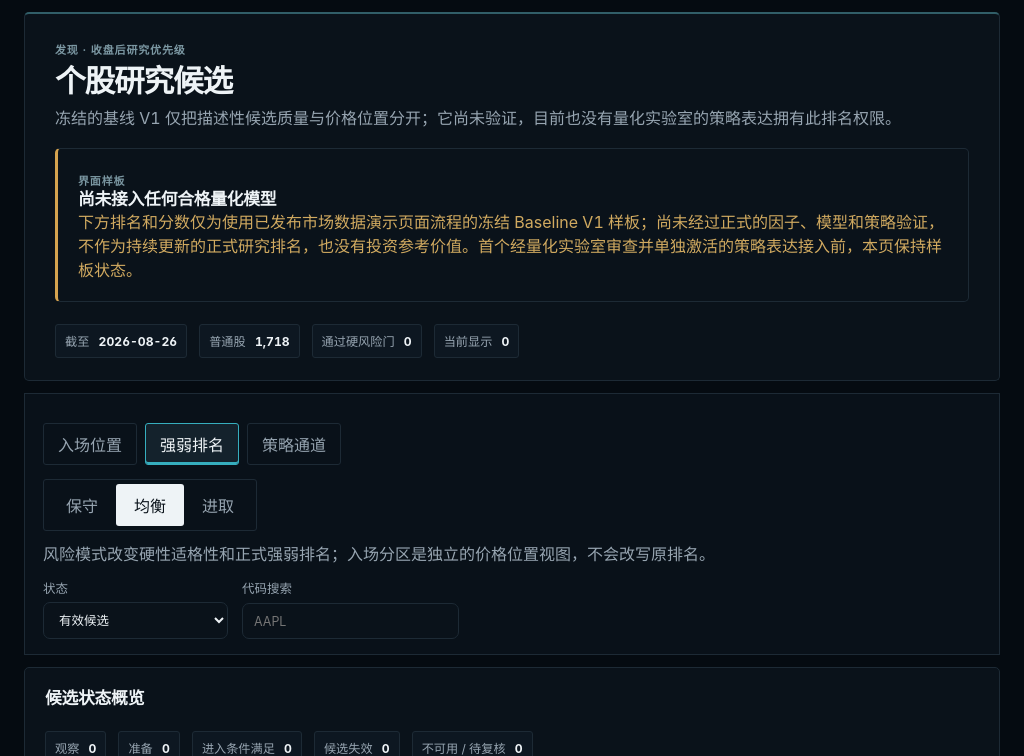
strategy-channel workspace › renders the decision desk in Chinese without changing its evidence scope
The image size is (1024, 756).
Check: the heading "尚未接入任何合格量化模型" is shown, box [78,189,276,209]
Check: the text "没有投资参考价值" is shown, box [78,212,944,280]
Click the button "策略通道" at (294, 444), box [247,423,341,465]
(page scrolled)
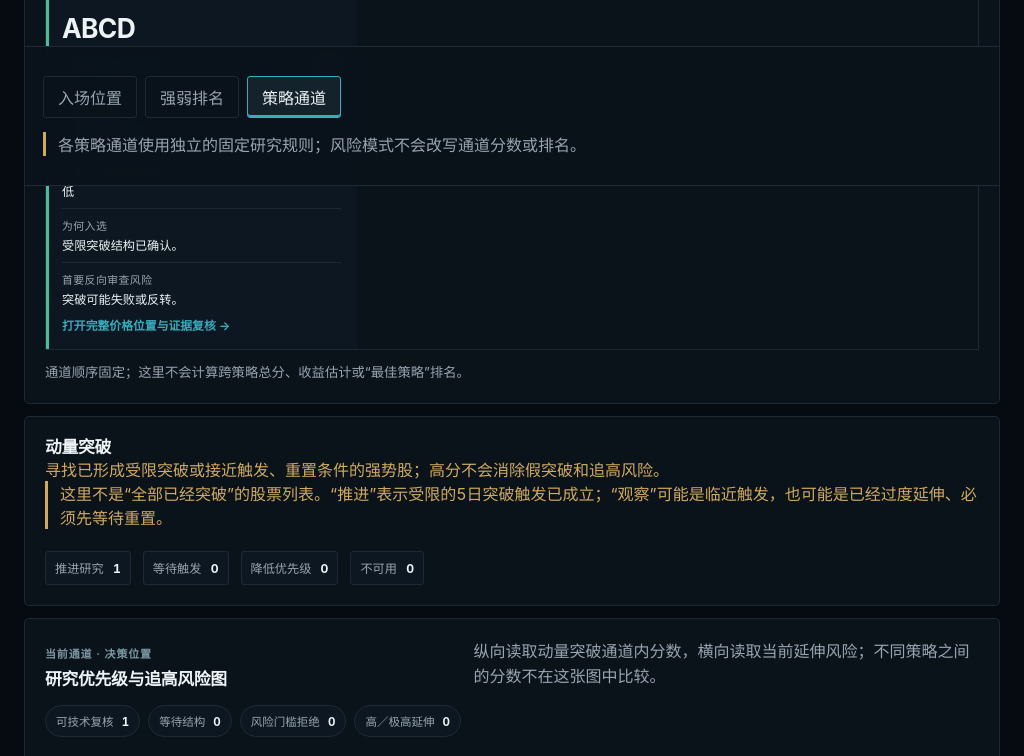
Check: the heading "研究优先级与追高风险图" is shown, box [45,668,227,688]
Check: the text "通道顺序固定；这里不会计算跨策略总分、收益估计或“最佳策略”排名。" is shown, box [45,364,470,380]
